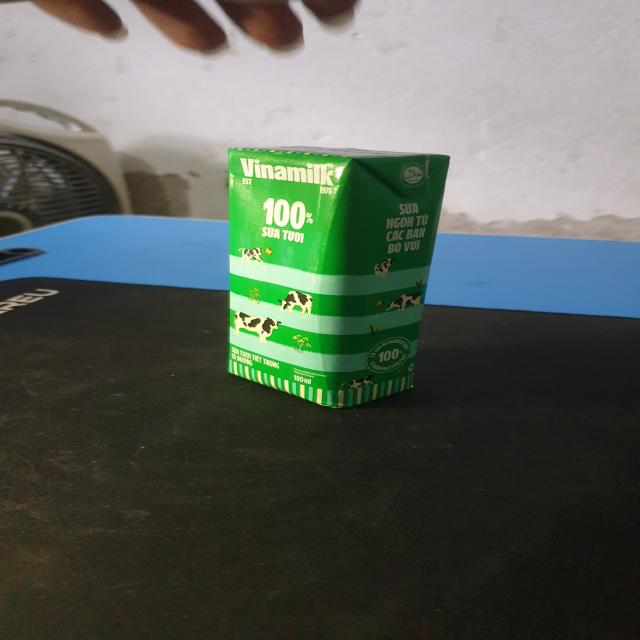Vina: (221, 147, 458, 412)
